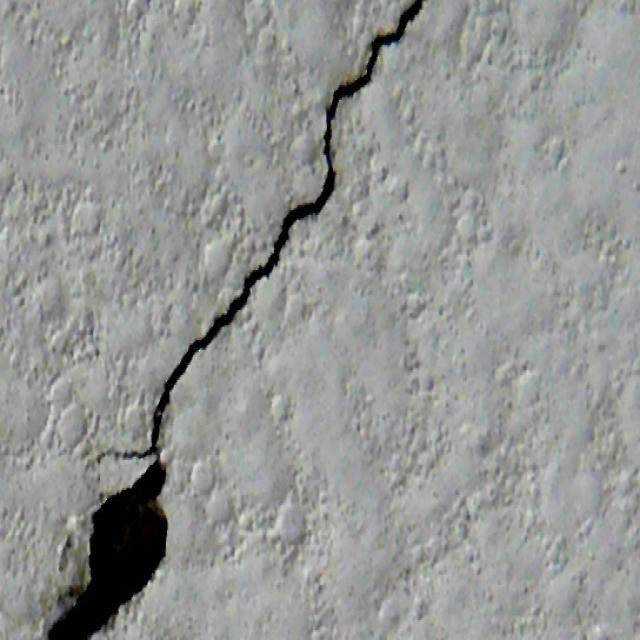Diagonal: (53, 2, 426, 620)
